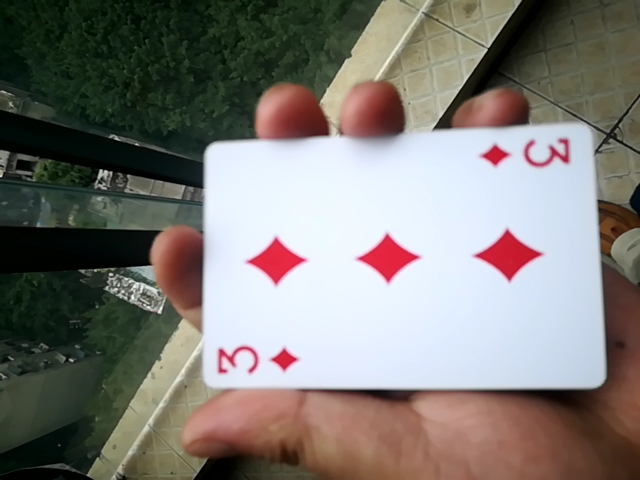fk 3: (175, 132, 608, 399)
